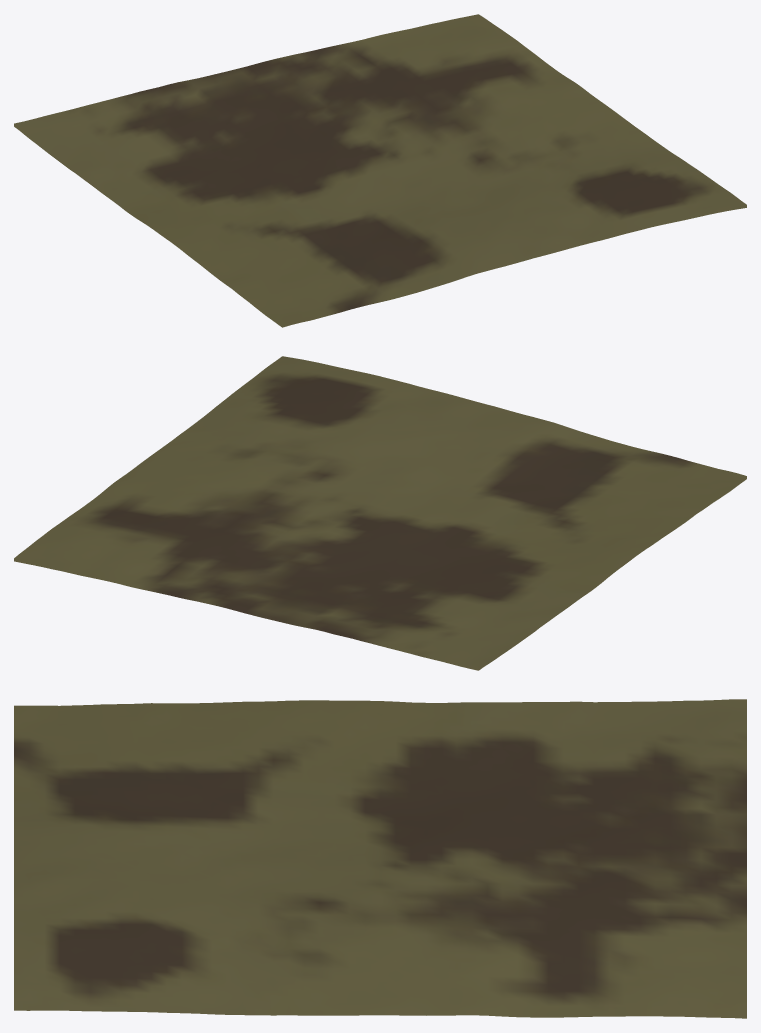
The model's file is land_m_05_01.glb.
3 views of the same model, one above another, from view 1: azimuth 30°, elevation 25°; view 2: azimuth 150°, elevation 25°; view 3: azimuth 270°, elevation 25° (orthographic). The views are drawn at different scales.
Parts seen in each view (by area): view 1: land_m_05_01; view 2: land_m_05_01; view 3: land_m_05_01.
Boxes of the visible parts, box(x1,y1,x2,y2) form: land_m_05_01: box(14, 14, 746, 327); land_m_05_01: box(14, 356, 746, 670); land_m_05_01: box(14, 699, 746, 1018).
Size of the model in its own units: 960 by 27.79 by 960.
